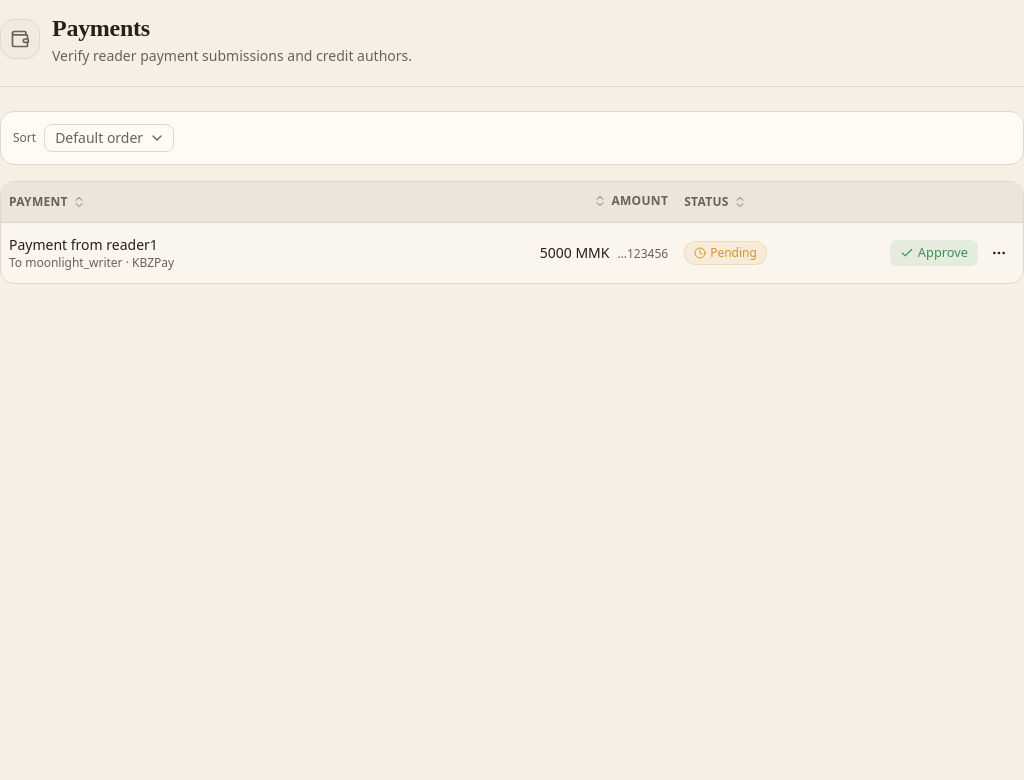
Test case: PaymentsQueuePage › approves a payment submission (FR-6.4)
Check: the text "Payment from reader1" is shown, box x1=9 y1=234 x2=158 y2=254
Check: the text "To moonlight_writer · KBZPay" is shown, box x1=9 y1=254 x2=174 y2=270
What coordinates should you click on to do the following:
click the button "Approve"
I would click on:
 (934, 252)
Its box is x1=889 y1=238 x2=979 y2=266.
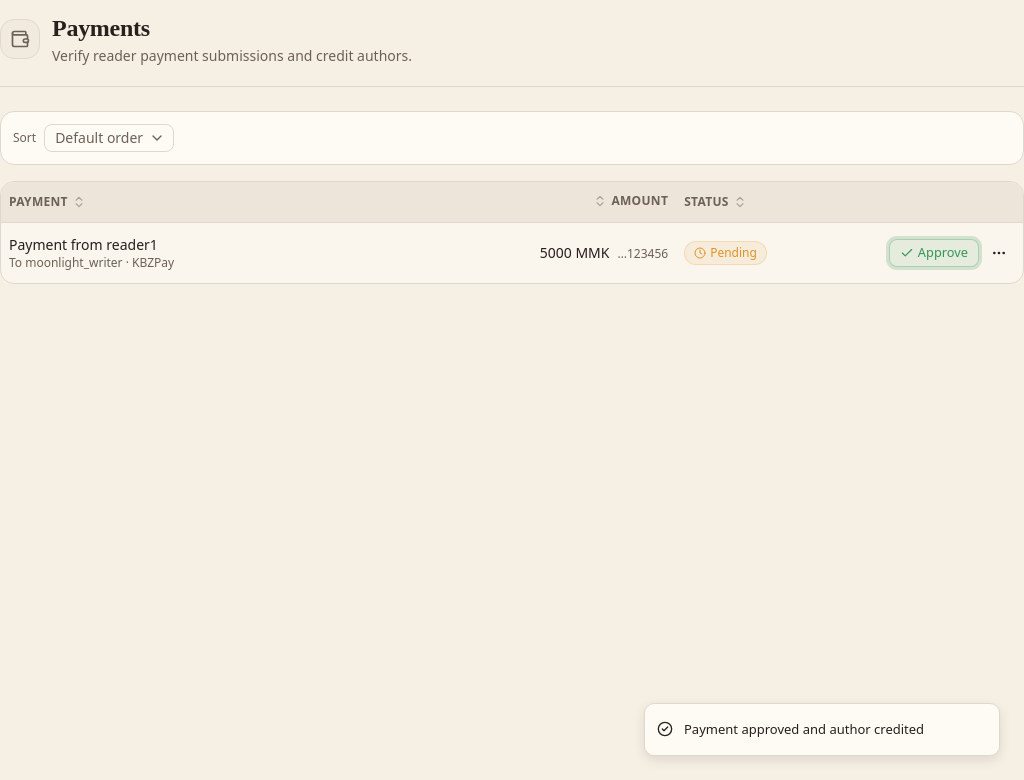
Check: the text "Payment approved and author credited" is shown, box x1=684 y1=720 x2=924 y2=739
